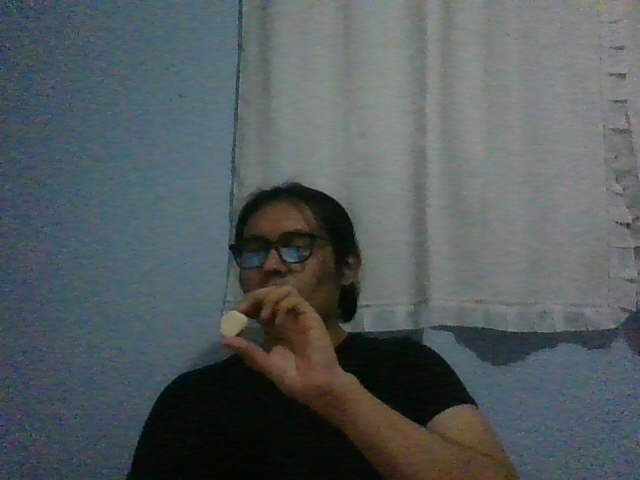goma: (220, 310, 248, 337)
